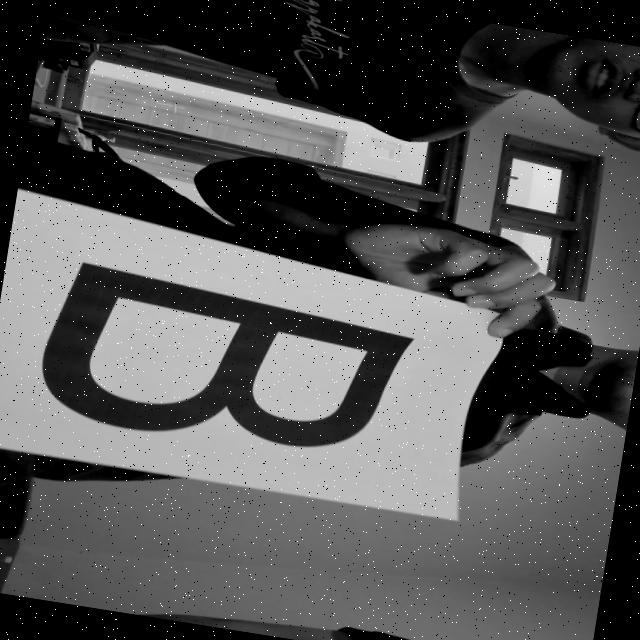b: (5, 253, 445, 488)
